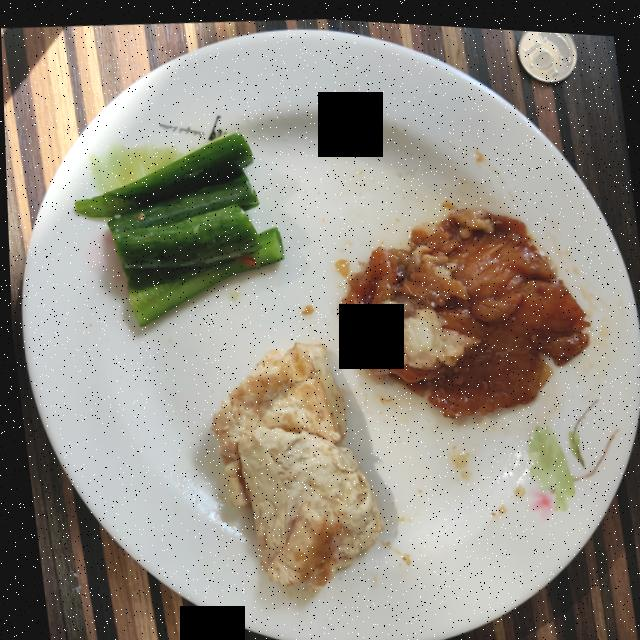Kabayaki sea bream fillet: (339, 201, 587, 411)
coin: (517, 24, 576, 74)
cucumber: (73, 129, 281, 323)
